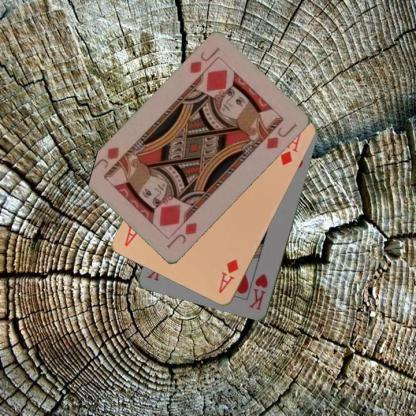Ad: (216, 256, 240, 295)
Jd: (186, 44, 222, 76), (164, 220, 198, 250)
Kh: (246, 271, 269, 311)
